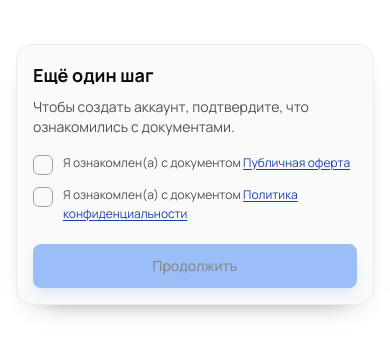
Scenario: TelegramCallback: 428 «нужно согласие» › обычную ошибку показывает текстом, а не объектом
The image size is (390, 362).
Click the checkbox labelled "Я ознакомлен(а) с документом Публичная оферта" at [43, 164], box left=33, top=154, right=53, bottom=174
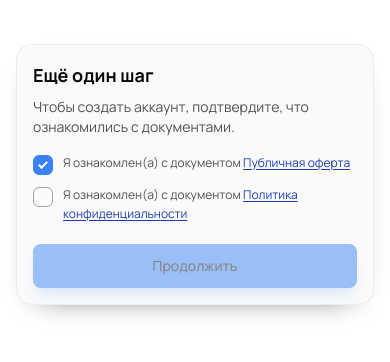
Click the checkbox labelled "Я ознакомлен(а) с документом Политика конфиденциальности" at [43, 196], box left=33, top=186, right=53, bottom=206
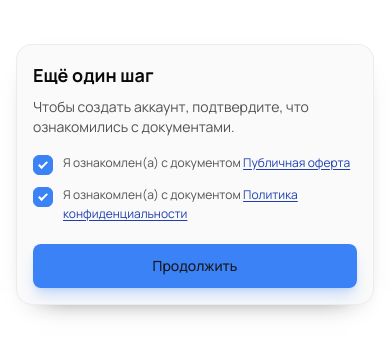
Click the button "Продолжить" at [195, 266], box left=33, top=244, right=357, bottom=288
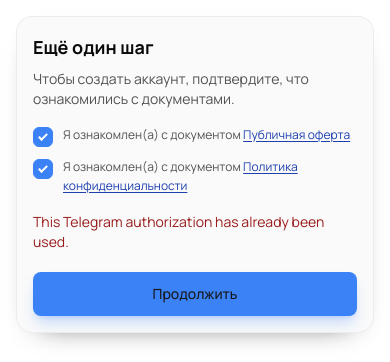
Expected: the text "This Telegram authorization has already been used." is shown, left=33, top=212, right=357, bottom=252
